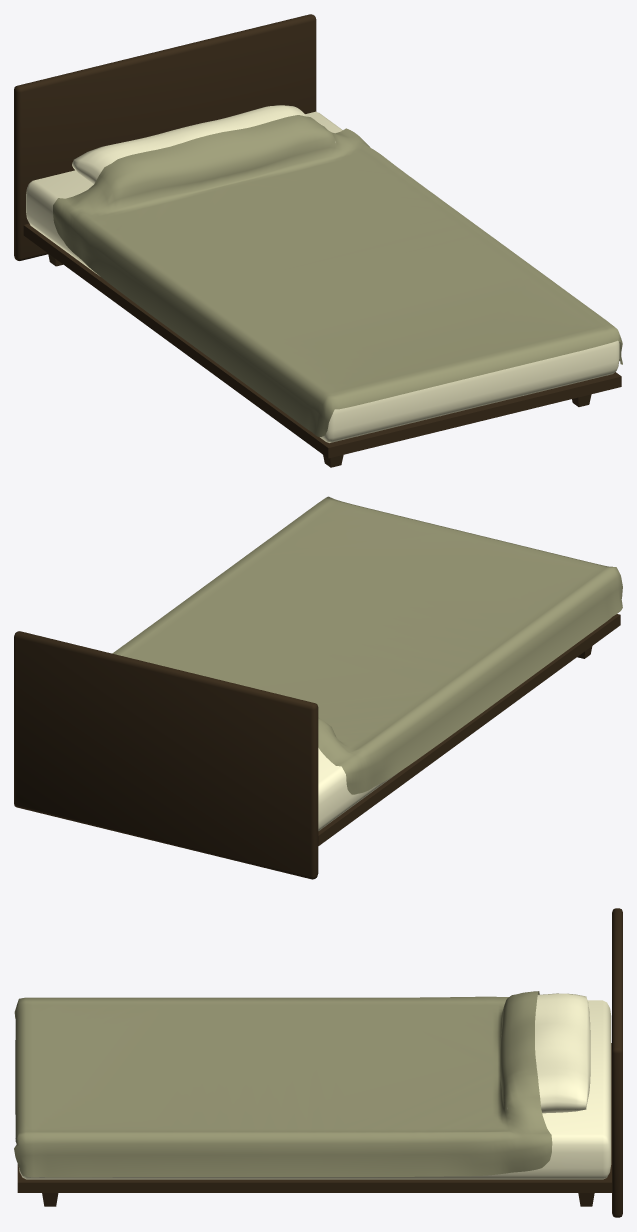
File: Cama.fbx
The picture shows the model from 3 angles, top to bottom: view 1: azimuth 30°, elevation 25°; view 2: azimuth 150°, elevation 25°; view 3: azimuth 270°, elevation 25°; orthographic projection. The views are drawn at different scales.
Visible parts, largest first — view 1: Cama; view 2: Cama; view 3: Cama.
Part boxes in pixels (<box>): Cama: <box>14,14,622,467</box>; Cama: <box>14,496,622,879</box>; Cama: <box>14,908,622,1217</box>.
Bounding box in the file's own units: 133 × 72.01 × 234.
